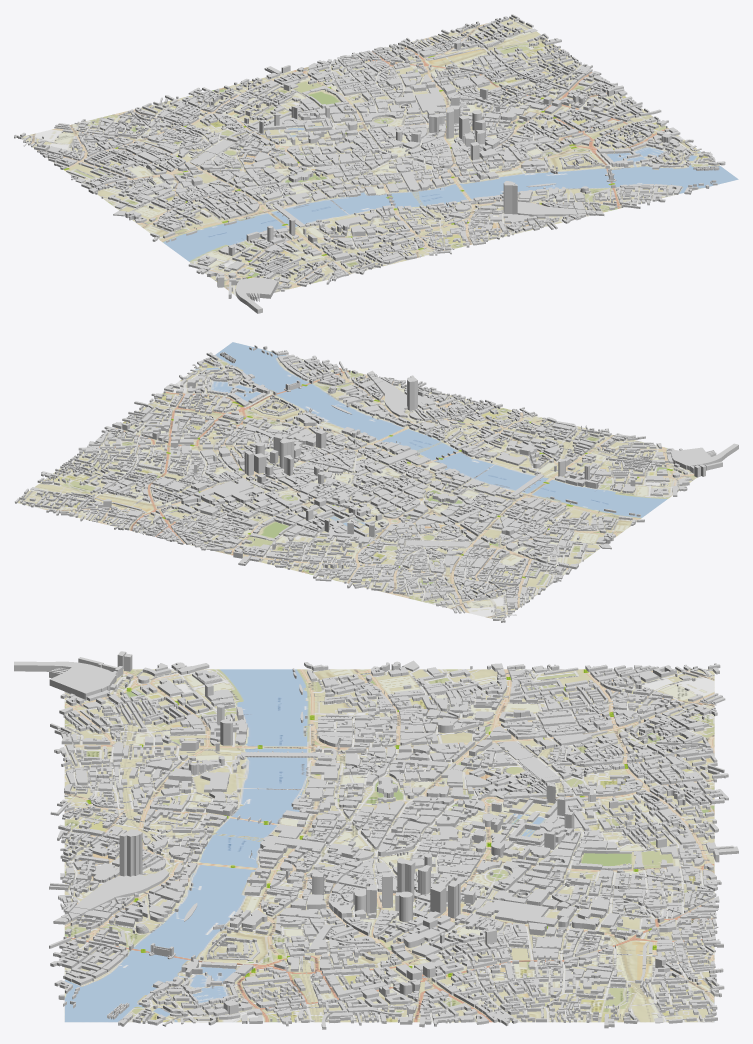
File: port.glb
3 renders of one model, top to bottom at view 1: azimuth 30°, elevation 25°; view 2: azimuth 150°, elevation 25°; view 3: azimuth 270°, elevation 25°, orthographic. The views are drawn at different scales.
Visible parts, largest first — view 1: Object_2, Object_8, Object_4, Object_6, Object_3, Object_5; view 2: Object_2, Object_8, Object_4, Object_6, Object_3, Object_5; view 3: Object_2, Object_8, Object_4, Object_6, Object_3, Object_5, Object_7.
Boxes of the visible parts, bbox=[...] form: Object_2: bbox=[14, 14, 724, 309]; Object_8: bbox=[22, 18, 738, 297]; Object_4: bbox=[28, 23, 712, 313]; Object_6: bbox=[14, 19, 725, 285]; Object_3: bbox=[20, 27, 679, 291]; Object_5: bbox=[23, 15, 661, 279]; Object_2: bbox=[15, 345, 738, 620]; Object_8: bbox=[14, 342, 706, 620]; Object_4: bbox=[41, 347, 738, 614]; Object_6: bbox=[21, 350, 694, 622]; Object_3: bbox=[41, 360, 705, 620]; Object_5: bbox=[15, 402, 677, 617]; Object_2: bbox=[14, 657, 738, 1026]; Object_8: bbox=[64, 669, 714, 1022]; Object_4: bbox=[14, 663, 738, 1028]; Object_6: bbox=[54, 663, 723, 1026]; Object_3: bbox=[53, 651, 733, 1022]; Object_5: bbox=[66, 663, 728, 1029]; Object_7: bbox=[165, 682, 672, 1010].
Bounding box in the file's own units: 5727 × 310 × 4776.
2 materials, 1 textured.
